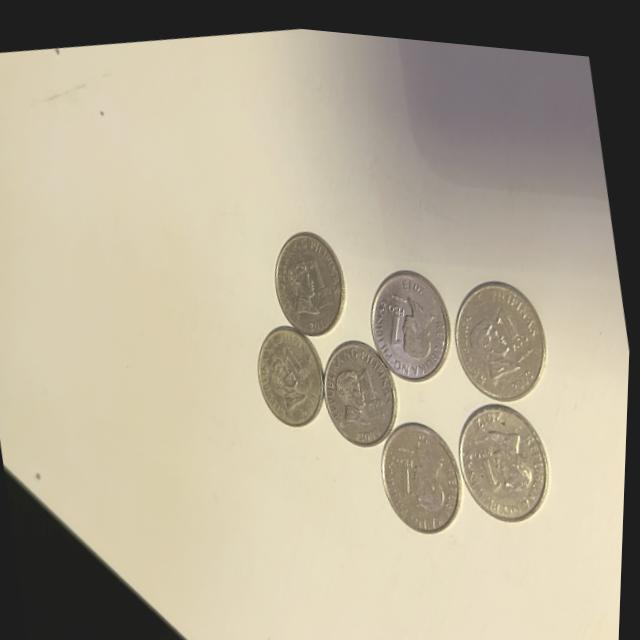1_Old_Front: (380, 286, 419, 348), (494, 290, 534, 344), (474, 433, 510, 482), (308, 245, 339, 299), (357, 355, 389, 406), (394, 439, 426, 489), (282, 334, 317, 379)
